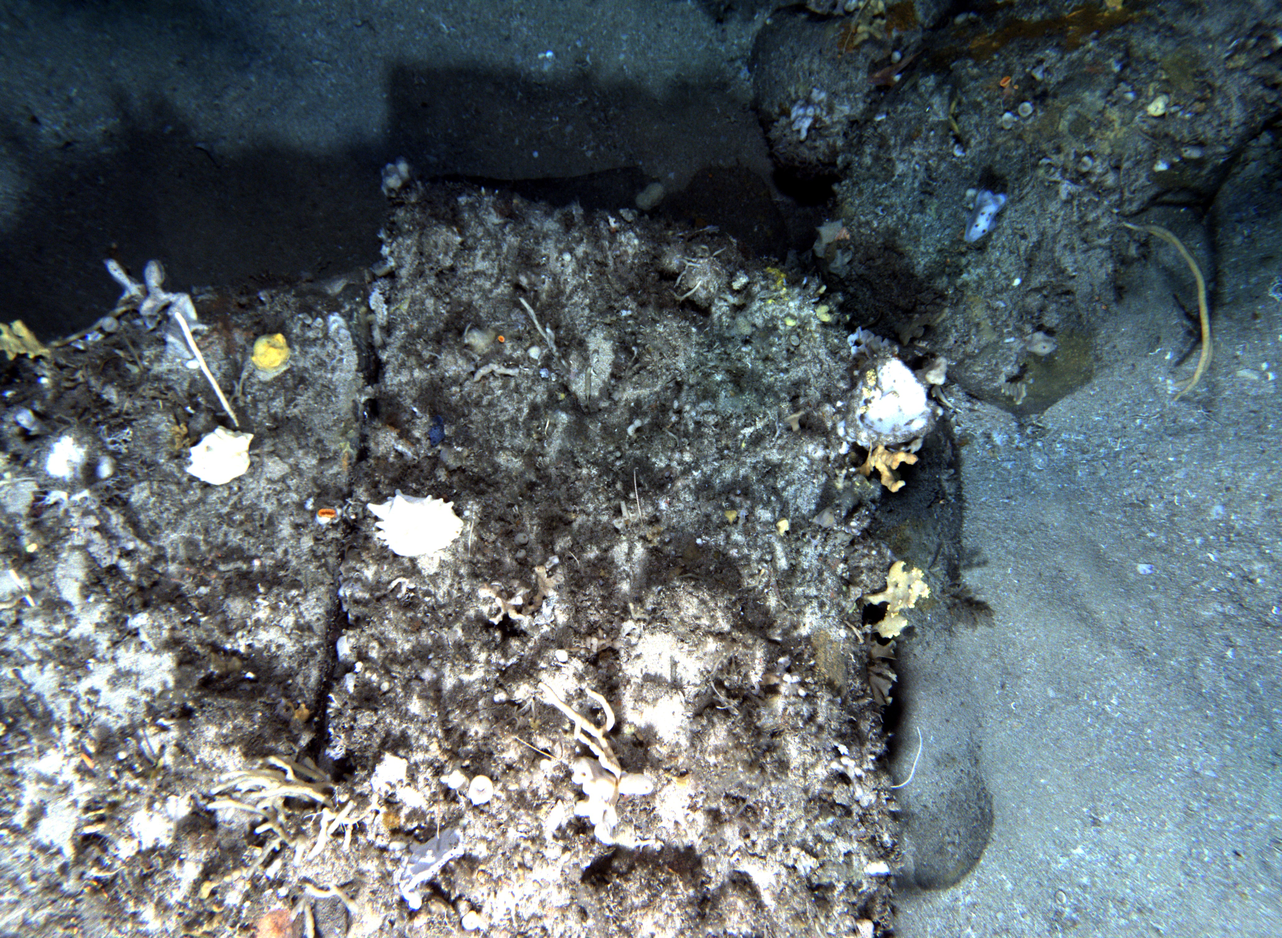Brachionichthyidae: (865, 46, 927, 87)
